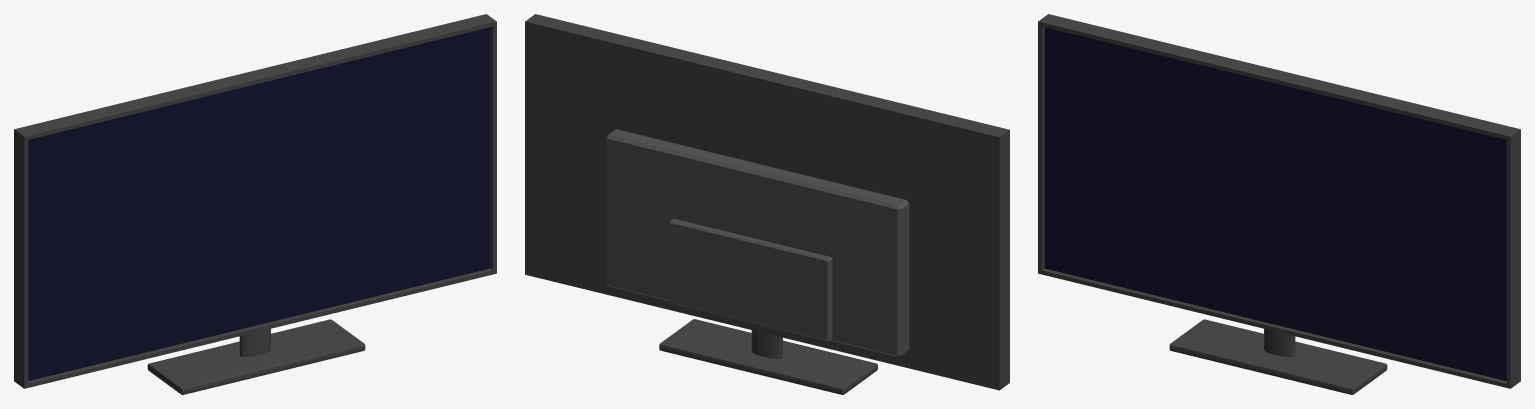
File: colored tv.fbx
The picture shows the model from 3 angles, left to right: view 1: azimuth 30°, elevation 25°; view 2: azimuth 150°, elevation 25°; view 3: azimuth 330°, elevation 25°; orthographic projection.
Parts seen in each view (by area): view 1: polySurface1, polySurface6, polySurface5, polySurface2; view 2: polySurface6, polySurface4, polySurface3, polySurface5, polySurface2; view 3: polySurface1, polySurface6, polySurface5, polySurface2.
Part boxes in pixels (x1=…): polySurface1: x1=28, y1=27, x2=490, y2=380; polySurface6: x1=14, y1=14, x2=496, y2=388; polySurface5: x1=147, y1=319, x2=365, y2=394; polySurface2: x1=239, y1=329, x2=270, y2=357; polySurface6: x1=525, y1=14, x2=1009, y2=390; polySurface4: x1=606, y1=129, x2=909, y2=357; polySurface3: x1=669, y1=218, x2=832, y2=341; polySurface5: x1=659, y1=319, x2=877, y2=394; polySurface2: x1=751, y1=330, x2=782, y2=358; polySurface1: x1=1044, y1=27, x2=1506, y2=380; polySurface6: x1=1038, y1=14, x2=1520, y2=388; polySurface5: x1=1169, y1=319, x2=1387, y2=394; polySurface2: x1=1264, y1=329, x2=1295, y2=357.
Size of the model in its own units: 1.22 by 0.7019 by 0.1675.
